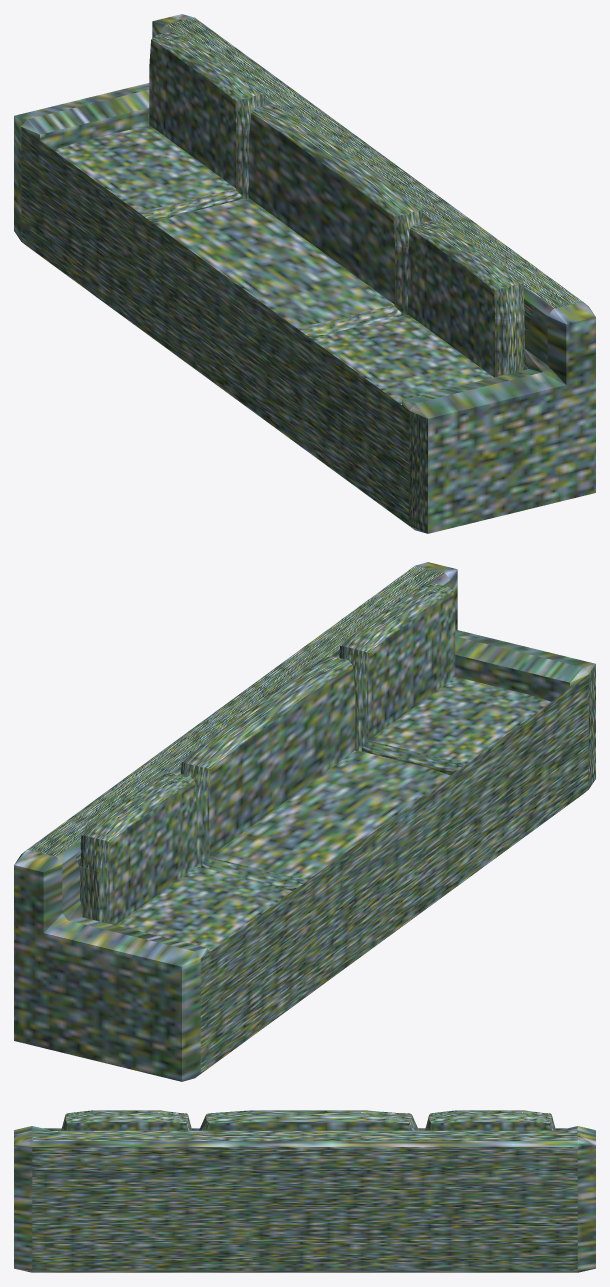
File: couch.fbx
The picture shows the model from 3 angles, top to bottom: view 1: azimuth 30°, elevation 25°; view 2: azimuth 150°, elevation 25°; view 3: azimuth 270°, elevation 25°; orthographic projection. The views are drawn at different scales.
Visible parts, largest first — view 1: Cube; view 2: Cube; view 3: Cube.
Part boxes in pixels (bbox=[...]): Cube: bbox=[14, 14, 595, 533]; Cube: bbox=[14, 562, 595, 1081]; Cube: bbox=[14, 1110, 595, 1272].
Size of the model in its own units: 200 by 217 by 800.
